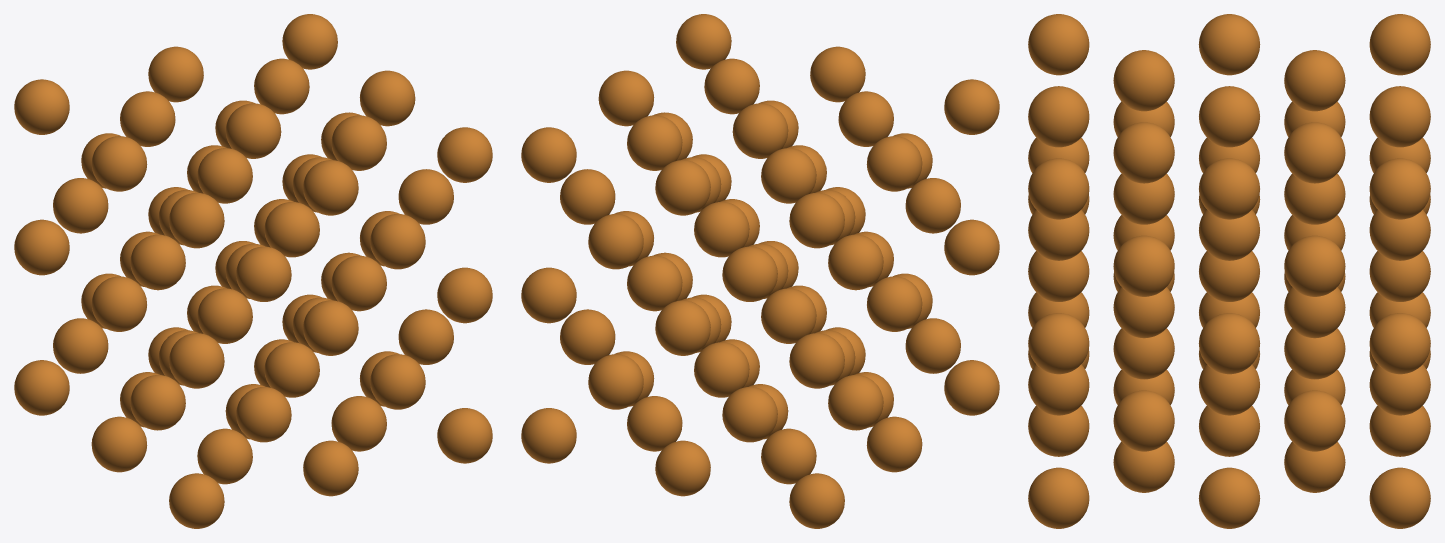
File: copper.glb
3 renders of one model, left to right at view 1: azimuth 30°, elevation 25°; view 2: azimuth 150°, elevation 25°; view 3: azimuth 270°, elevation 25°, orthographic. The views are drawn at different scales.
Parts seen in each view (by area): view 1: Cu (×63); view 2: Cu (×63); view 3: Cu (×55).
Part boxes in pixels (left/top/right/bottom): Cu (×63): left=14, top=14, right=492, bottom=528; Cu (×63): left=521, top=14, right=999, bottom=528; Cu (×55): left=1028, top=14, right=1430, bottom=528.
Bounding box in the file's own units: 0.22 × 0.22 × 0.22.
